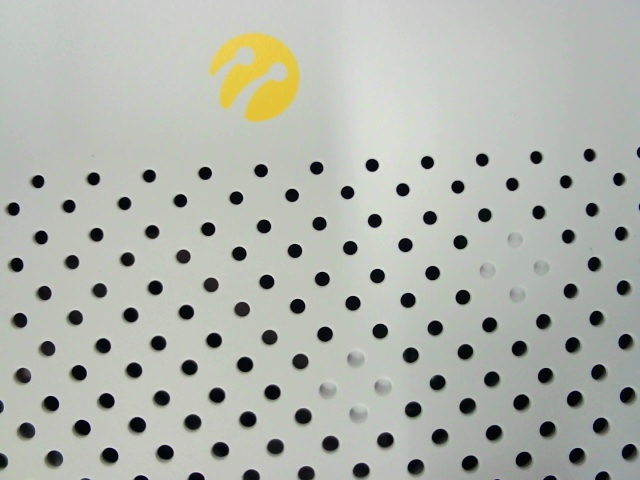AV_H3600Yellow: (202, 28, 303, 131)
